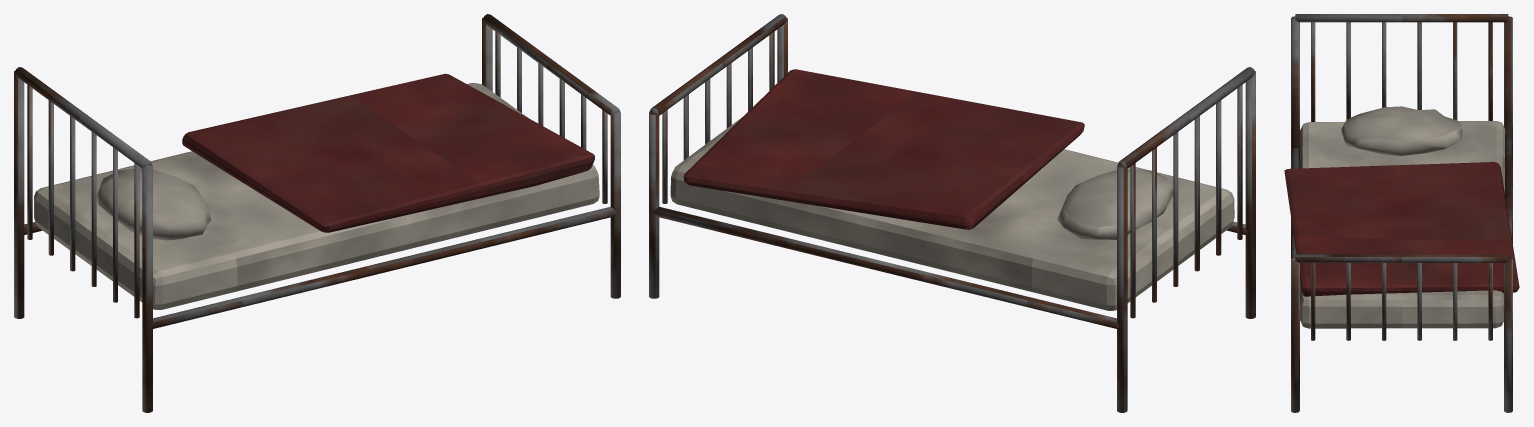
Rendered from B02_single_bed_v1.glb.
3 renders of one model, left to right at view 1: azimuth 30°, elevation 25°; view 2: azimuth 150°, elevation 25°; view 3: azimuth 270°, elevation 25°, orthographic. The views are drawn at different scales.
Visible parts, largest first — view 1: B02_single_bed_v1; view 2: B02_single_bed_v1; view 3: B02_single_bed_v1.
Boxes of the visible parts, x1,y1,x2,y2 form: B02_single_bed_v1: [14, 14, 620, 412]; B02_single_bed_v1: [649, 14, 1255, 412]; B02_single_bed_v1: [1284, 14, 1519, 412].
Bounding box in the file's own units: 1.9 × 0.95 × 0.9764.
Materials: 3 (3 with a texture image).
